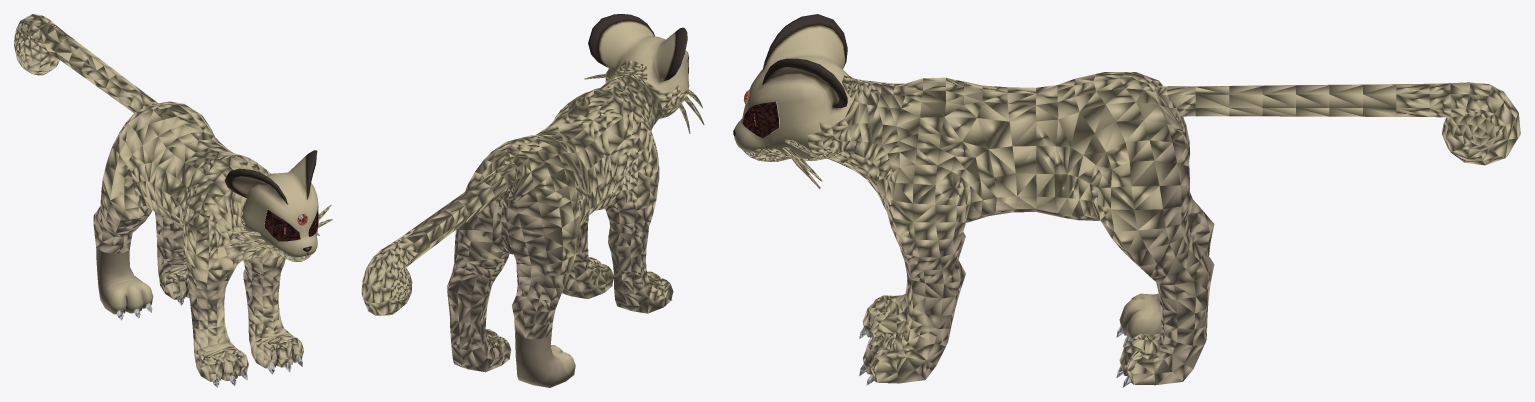
File: 053 Persian-1.gltf
3 views of the same model, side by side, from view 1: azimuth 30°, elevation 25°; view 2: azimuth 150°, elevation 25°; view 3: azimuth 270°, elevation 25° (orthographic). The views are drawn at different scales.
Visible parts, largest first — view 1: Persian; view 2: Persian; view 3: Persian.
Boxes of the visible parts, left/top/right/bottom form: Persian: left=14, top=14, right=332, bottom=387; Persian: left=361, top=14, right=704, bottom=387; Persian: left=733, top=14, right=1520, bottom=387.
Bounding box in the file's own units: 135 × 262 × 586.
3 materials, 3 textured.
